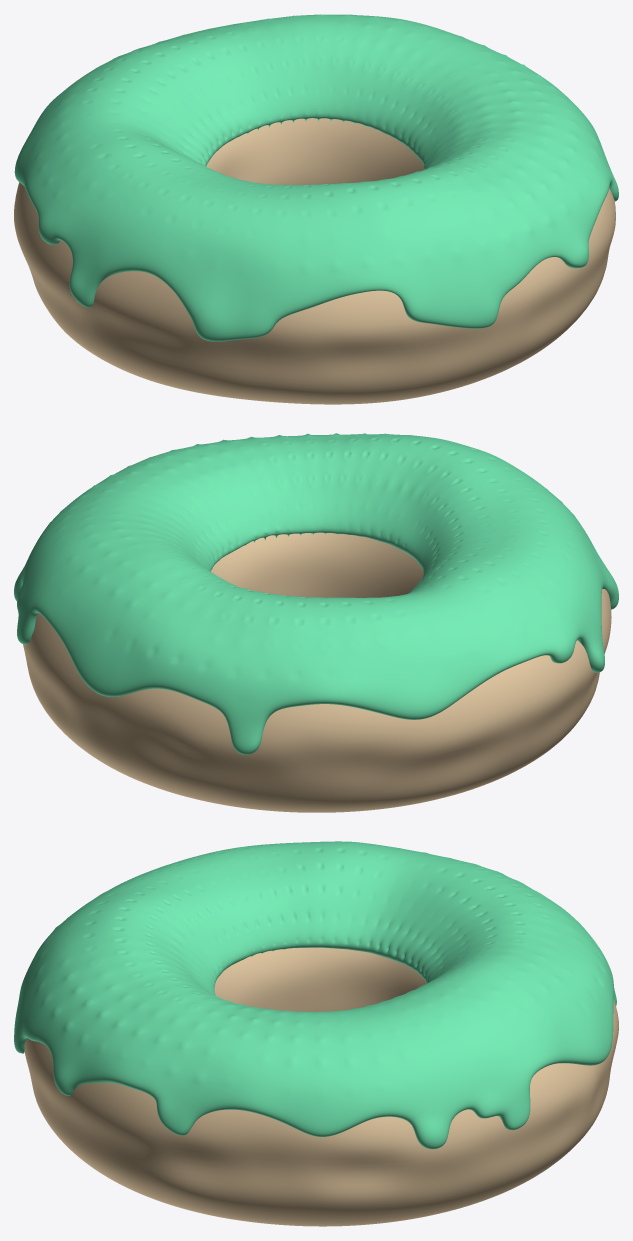
Rendered from donut_v2.gltf.
The picture shows the model from 3 angles, top to bottom: view 1: azimuth 30°, elevation 25°; view 2: azimuth 150°, elevation 25°; view 3: azimuth 270°, elevation 25°; orthographic projection.
Parts seen in each view (by area): view 1: Icing, Donut; view 2: Icing, Donut; view 3: Icing, Donut.
Part boxes in pixels (x1,y1,x2,y2): Icing: (14,14,618,341); Donut: (14,118,615,404); Icing: (14,433,618,754); Donut: (23,532,611,812); Icing: (14,841,616,1149); Donut: (24,947,618,1226).
Size of what is drawn, in the model's own units: 0.1484 by 0.0559 by 0.1495.
